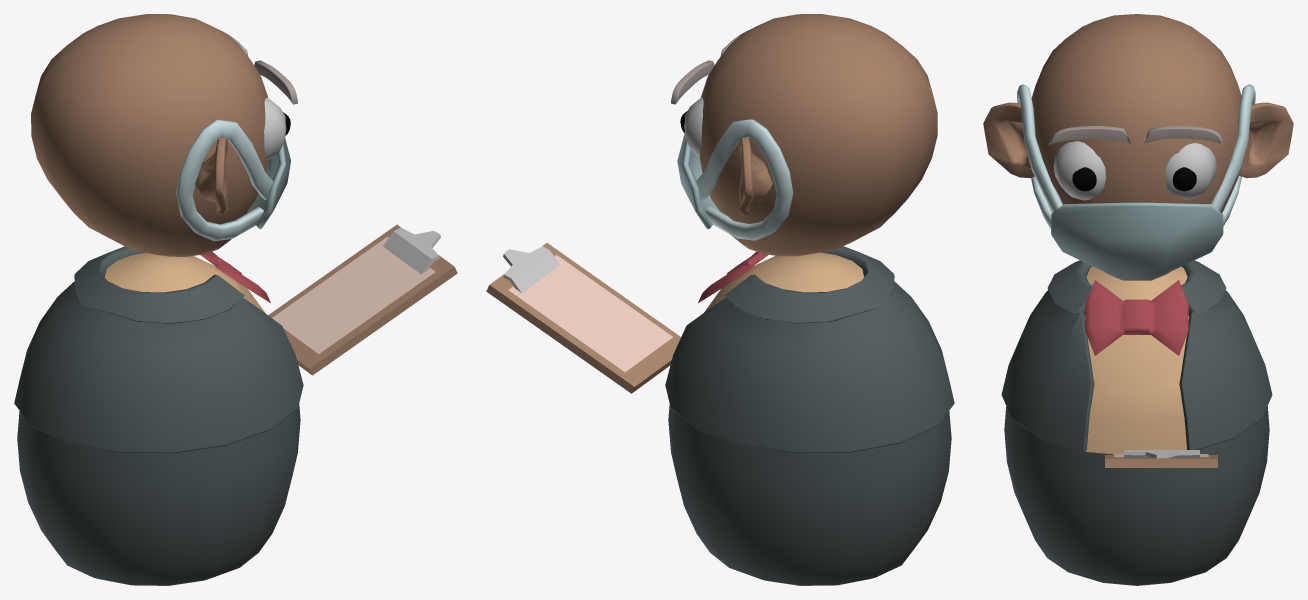
Rendered from SM_shortMan.fbx.
3 renders of one model, left to right at view 1: azimuth 30°, elevation 25°; view 2: azimuth 150°, elevation 25°; view 3: azimuth 270°, elevation 25°, orthographic.
Parts seen in each view (by area): view 1: shortMan; view 2: shortMan; view 3: shortMan.
Part boxes in pixels (x1,y1,x2,y2): shortMan: (14,14,457,585); shortMan: (486,14,954,585); shortMan: (983,14,1293,585).
Bounding box in the file's own units: 139 × 166 × 90.71.
